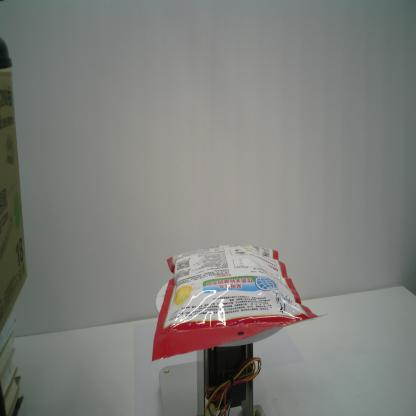Instant Drink: (152, 243, 328, 361)
